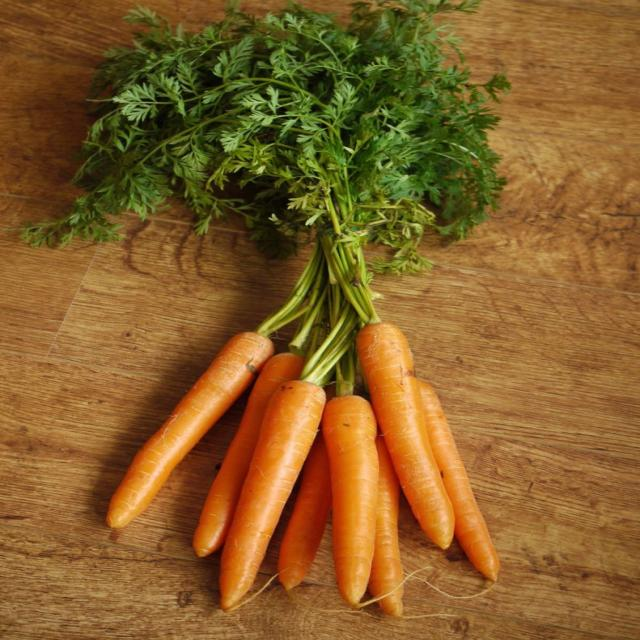Carrot: (326, 392, 382, 608)
